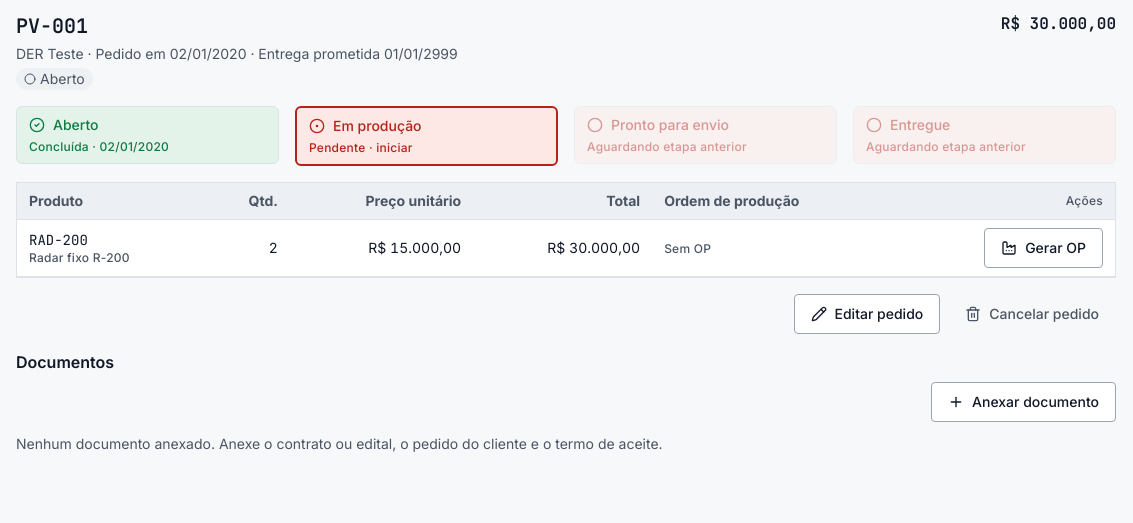
Test: Detalhe do pedido de venda › 409 sem BOM ativa mostra a mensagem da API
Click the button with aria-label "Gerar OP de RAD-200". click: (1044, 248)
box: [984, 228, 1103, 268]
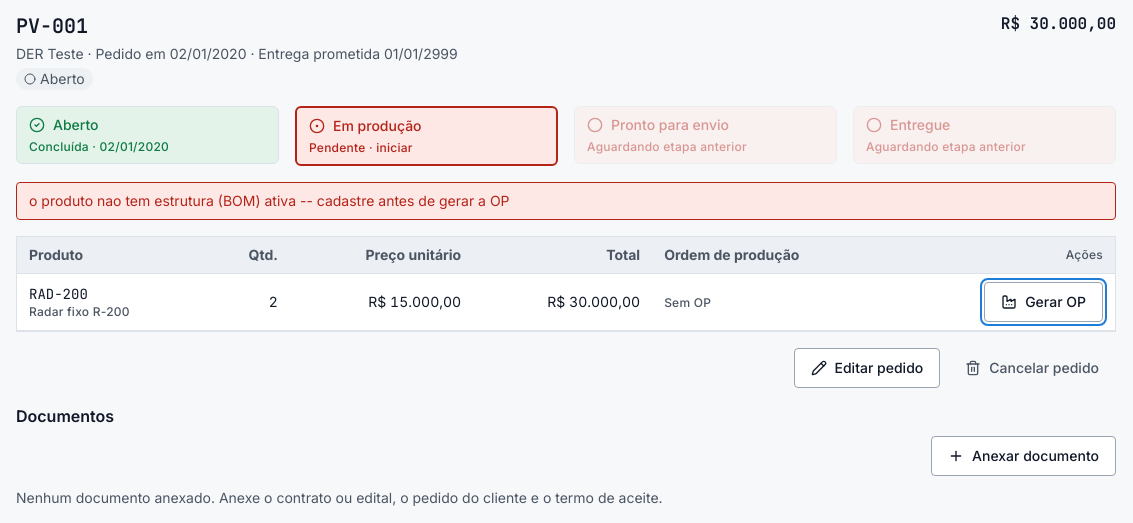
Expected: the message shows "o produto nao tem estrutura (BOM) ativa", [29, 192, 510, 209]
